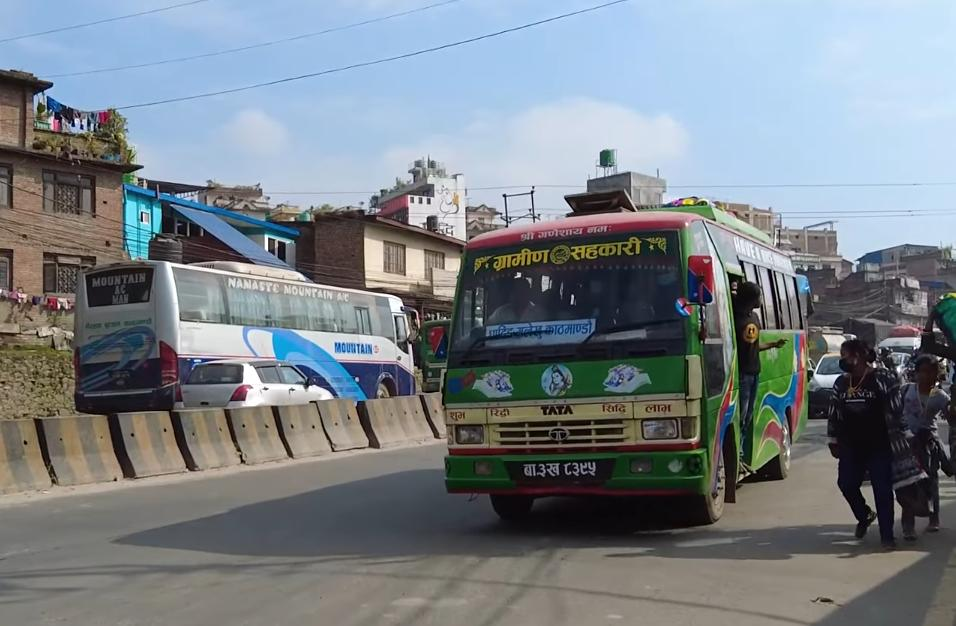bus: (433, 193, 818, 510), (66, 254, 422, 410)
car: (169, 355, 343, 416)
